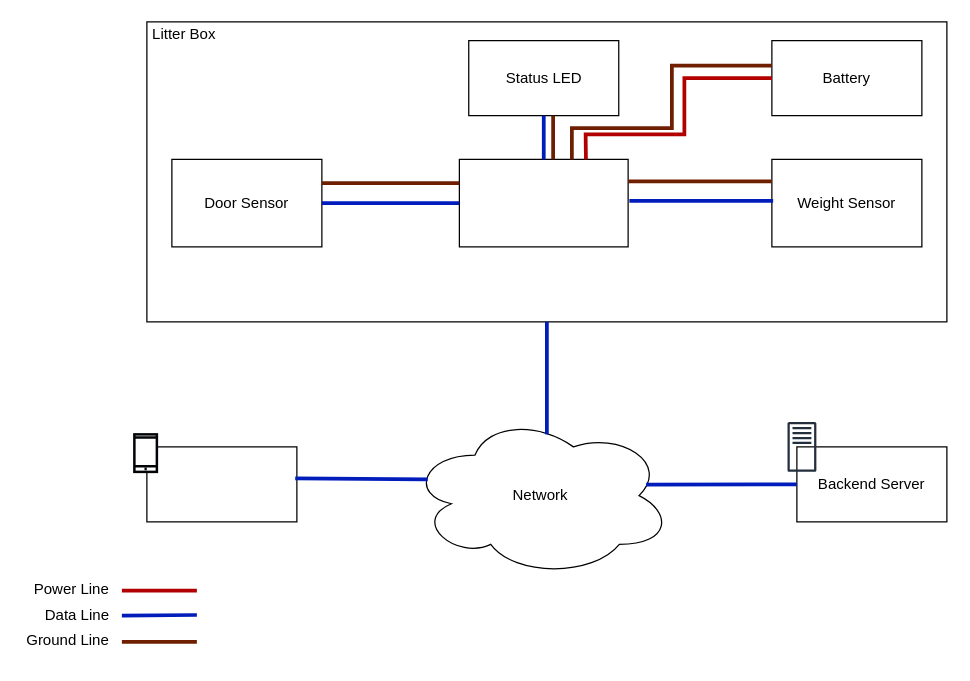
This 970x681 diagram has some shape labels left out. Here are the shapes that lost their labels. From the top down, the centre of each, then its label:
pixel 543 202: RaspberryPi 3 Model B
pixel 221 484: Mobile Application
